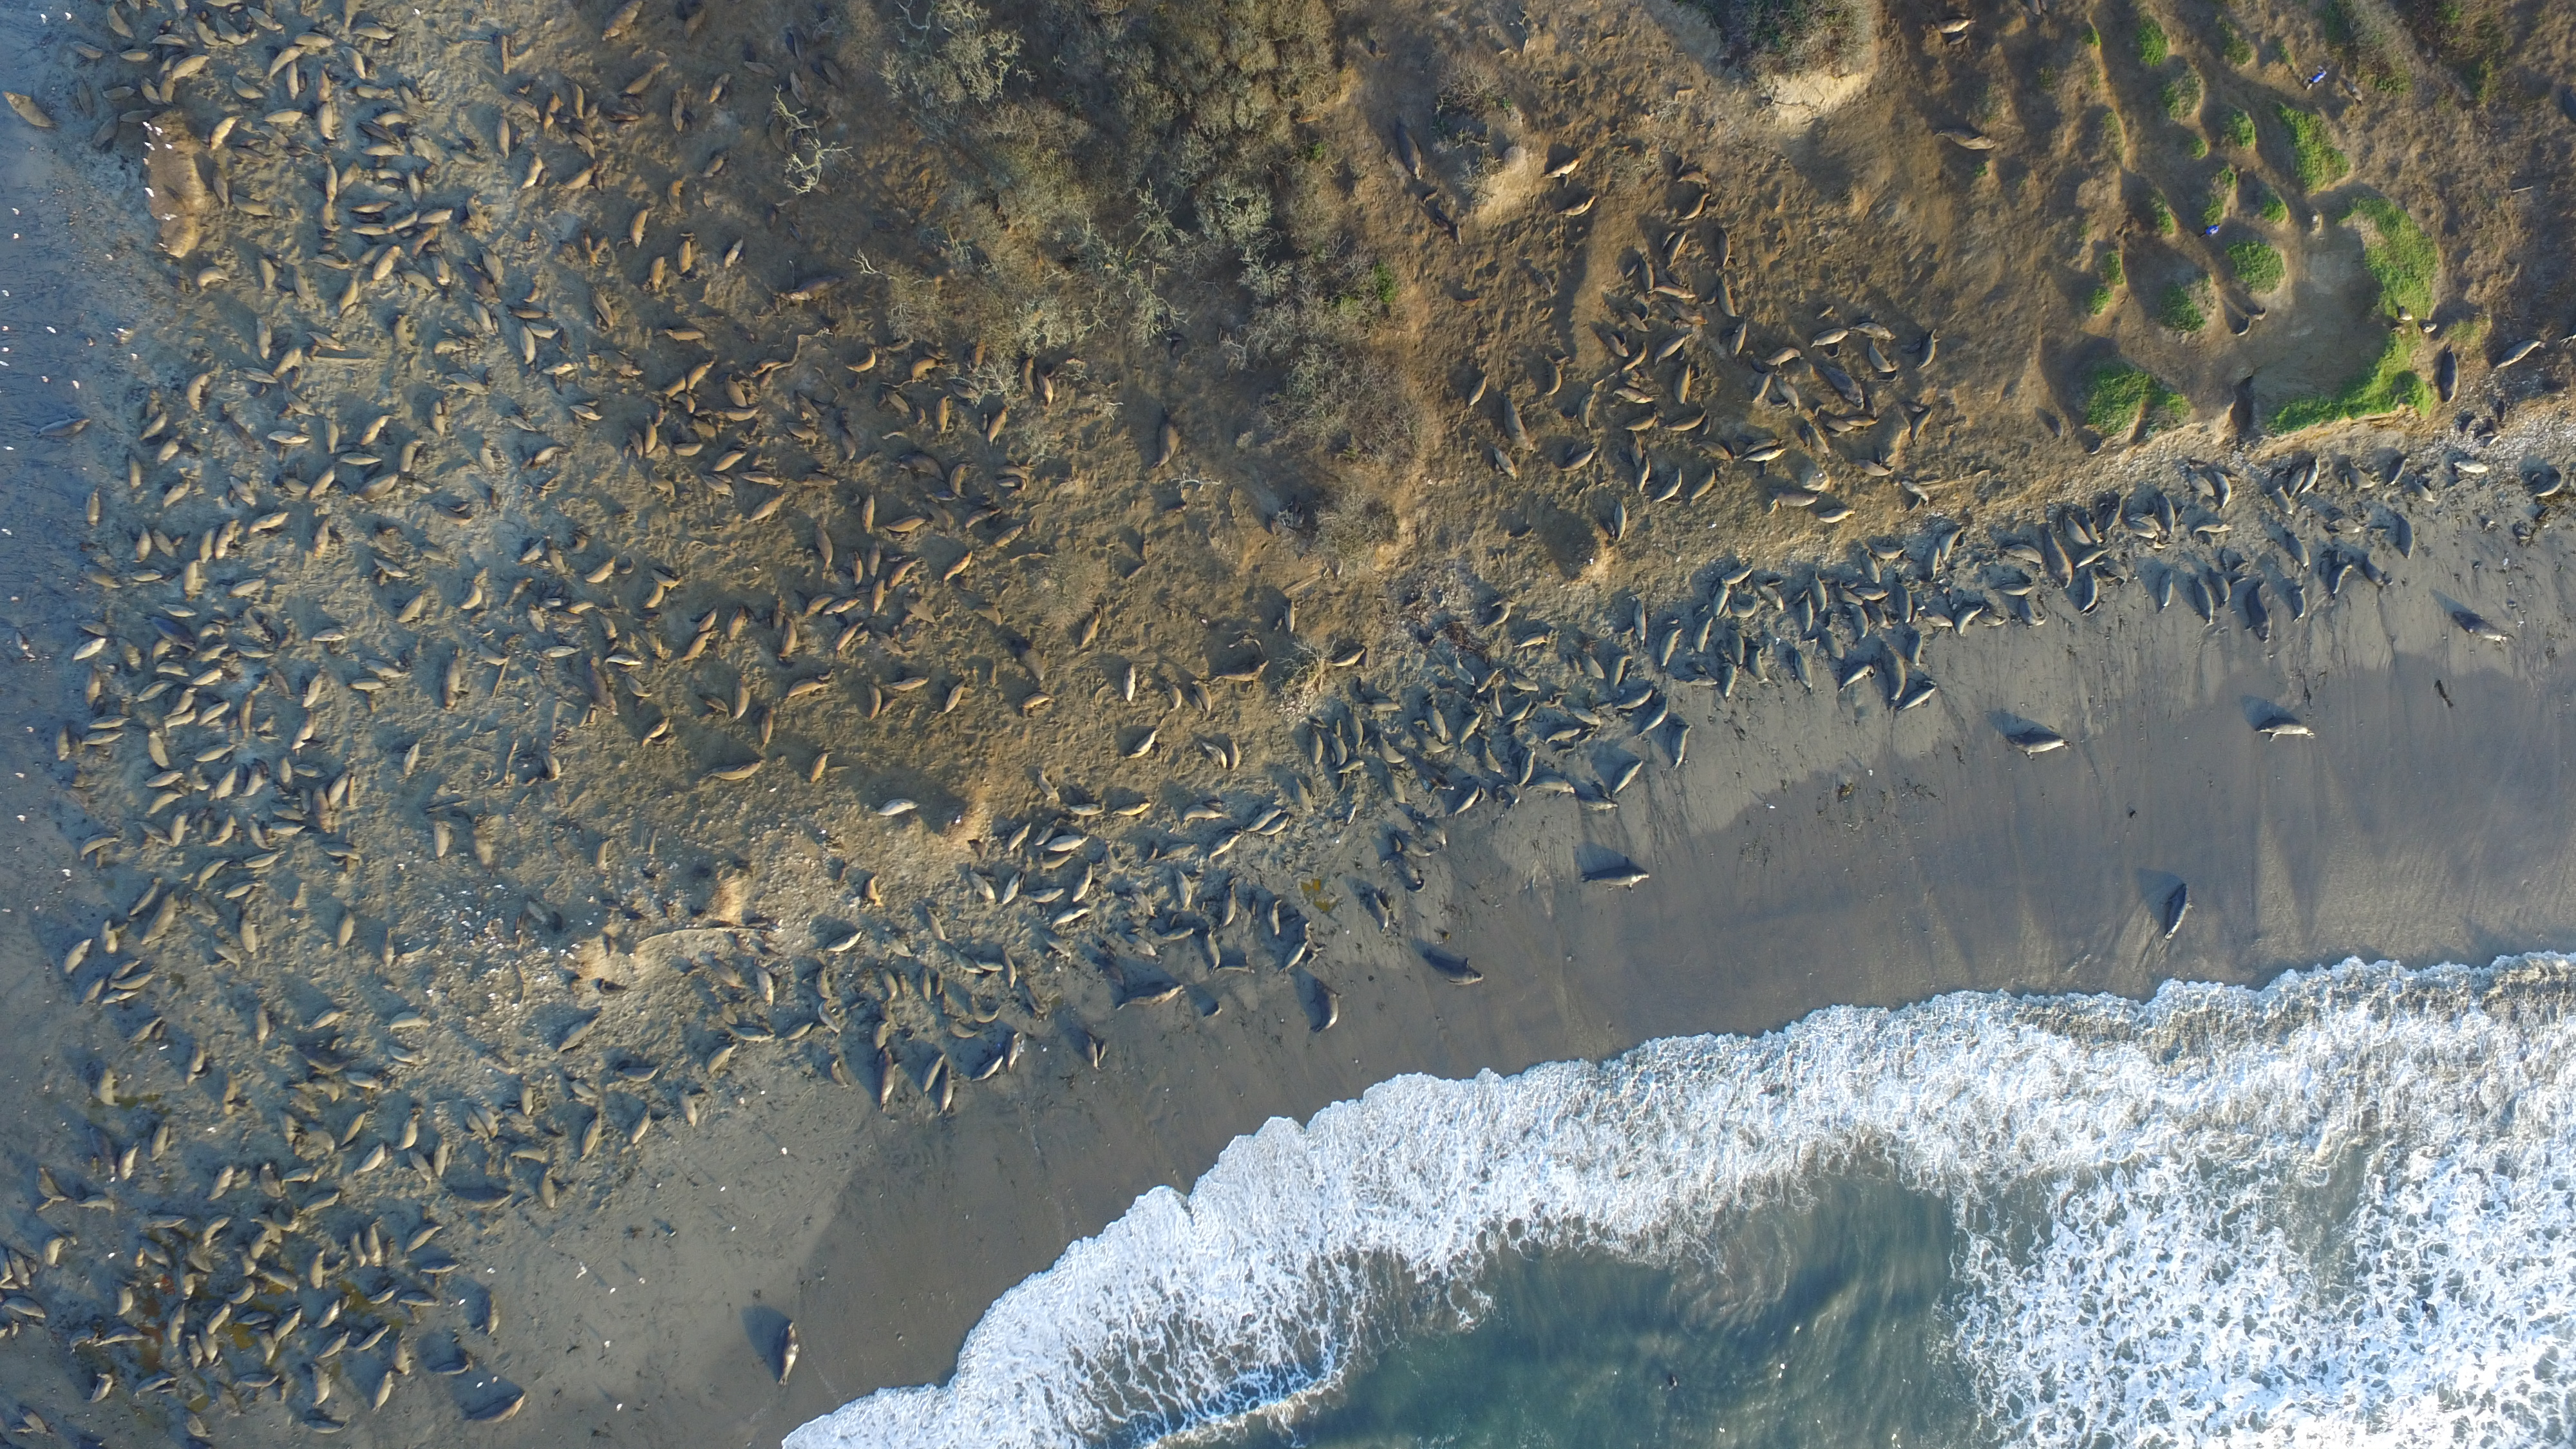adult male: (2, 90, 64, 131), (145, 612, 196, 653), (460, 260, 504, 306), (34, 414, 90, 439)
male juvenile / female juvenile / adult female: (191, 9, 232, 48), (349, 471, 396, 502), (267, 41, 304, 81), (184, 366, 216, 412), (214, 11, 257, 44), (290, 260, 318, 310), (357, 115, 403, 145), (207, 115, 244, 152), (370, 244, 405, 281), (281, 380, 317, 418), (357, 412, 396, 446), (214, 517, 241, 564), (232, 191, 276, 219), (195, 264, 239, 292), (409, 221, 441, 260), (478, 246, 508, 287), (467, 191, 495, 234), (196, 520, 225, 563), (405, 127, 439, 163), (170, 53, 211, 81), (244, 4, 285, 32), (83, 563, 124, 591), (244, 511, 294, 534), (372, 554, 414, 580), (106, 2, 136, 39), (140, 405, 170, 442), (241, 605, 271, 642), (400, 267, 439, 295), (467, 299, 495, 338), (90, 111, 120, 147), (446, 372, 492, 395), (209, 166, 232, 211), (154, 433, 184, 467), (69, 37, 110, 62), (272, 343, 301, 379), (308, 464, 336, 499), (340, 44, 366, 81), (260, 104, 306, 126), (255, 315, 276, 361), (310, 517, 331, 563), (350, 21, 400, 41), (419, 541, 458, 566), (234, 71, 265, 101), (161, 476, 191, 508), (387, 205, 421, 234), (359, 140, 412, 157), (336, 278, 357, 322), (393, 315, 419, 350), (338, 157, 361, 198), (448, 147, 488, 170), (320, 154, 340, 202), (71, 635, 108, 660), (306, 329, 349, 350), (150, 527, 179, 559), (228, 474, 257, 506), (398, 439, 425, 472), (78, 614, 113, 639), (235, 366, 280, 386), (255, 124, 292, 147), (315, 103, 338, 140), (370, 111, 418, 129), (78, 78, 97, 120), (234, 145, 276, 165), (405, 165, 425, 207), (255, 253, 274, 295), (131, 524, 152, 563), (180, 559, 202, 598), (228, 575, 267, 596), (506, 303, 552, 320), (347, 198, 396, 214), (418, 205, 455, 226), (361, 166, 405, 184), (432, 338, 476, 356), (126, 446, 143, 490), (265, 430, 313, 446), (428, 398, 448, 437), (156, 600, 198, 617), (320, 202, 343, 234), (350, 83, 396, 99), (117, 106, 157, 124), (317, 62, 334, 103), (280, 474, 313, 495), (398, 81, 425, 108), (336, 451, 380, 467), (308, 253, 350, 269), (430, 255, 451, 287), (85, 487, 101, 529), (149, 635, 172, 663), (322, 414, 338, 455), (140, 76, 161, 106), (292, 34, 336, 48), (311, 626, 350, 642), (347, 223, 389, 237), (127, 568, 165, 584), (159, 71, 175, 106), (120, 46, 154, 62), (101, 87, 138, 101), (285, 58, 297, 101), (150, 35, 191, 48), (265, 251, 287, 272), (435, 398, 449, 416)
pup: (336, 301, 359, 322), (359, 460, 382, 481), (260, 623, 281, 644), (267, 331, 290, 350), (326, 639, 350, 656), (326, 69, 352, 85), (352, 212, 386, 225), (395, 223, 419, 239), (363, 55, 379, 78), (357, 232, 382, 246), (458, 334, 487, 347), (200, 386, 212, 412), (308, 340, 322, 363), (460, 134, 478, 152), (276, 403, 294, 421), (327, 527, 345, 545), (157, 16, 173, 35), (161, 566, 180, 582), (239, 134, 264, 147), (326, 479, 350, 492), (456, 218, 478, 232), (274, 442, 287, 465), (251, 380, 267, 398), (409, 83, 423, 103), (425, 241, 446, 253), (483, 366, 495, 387), (211, 612, 232, 625), (380, 525, 405, 536), (366, 564, 382, 580), (375, 570, 391, 586), (334, 444, 357, 455), (198, 7, 214, 21), (264, 44, 280, 58), (317, 230, 338, 241), (318, 241, 340, 251), (308, 23, 329, 34), (124, 527, 140, 541), (170, 534, 186, 548), (226, 485, 237, 506), (294, 462, 304, 483), (214, 577, 235, 587), (490, 315, 501, 334), (285, 149, 308, 157), (313, 179, 326, 195), (299, 69, 308, 90), (379, 435, 395, 446), (320, 136, 331, 149), (228, 5, 246, 12), (379, 428, 391, 435)
